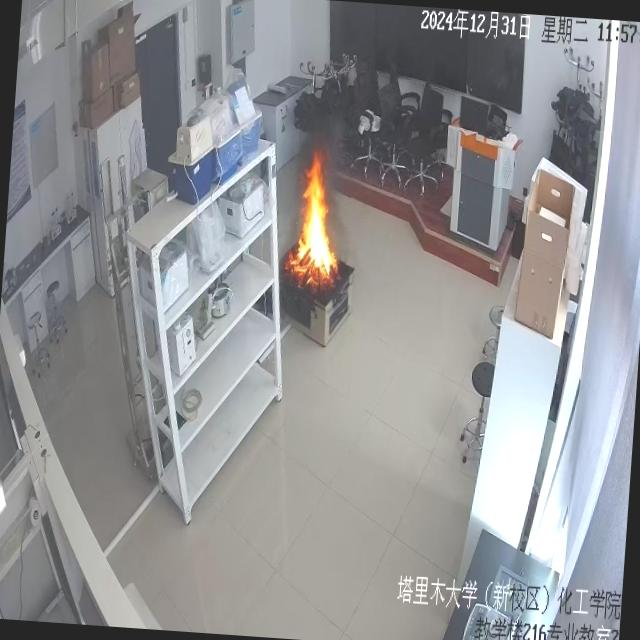fire: (273, 140, 370, 338)
